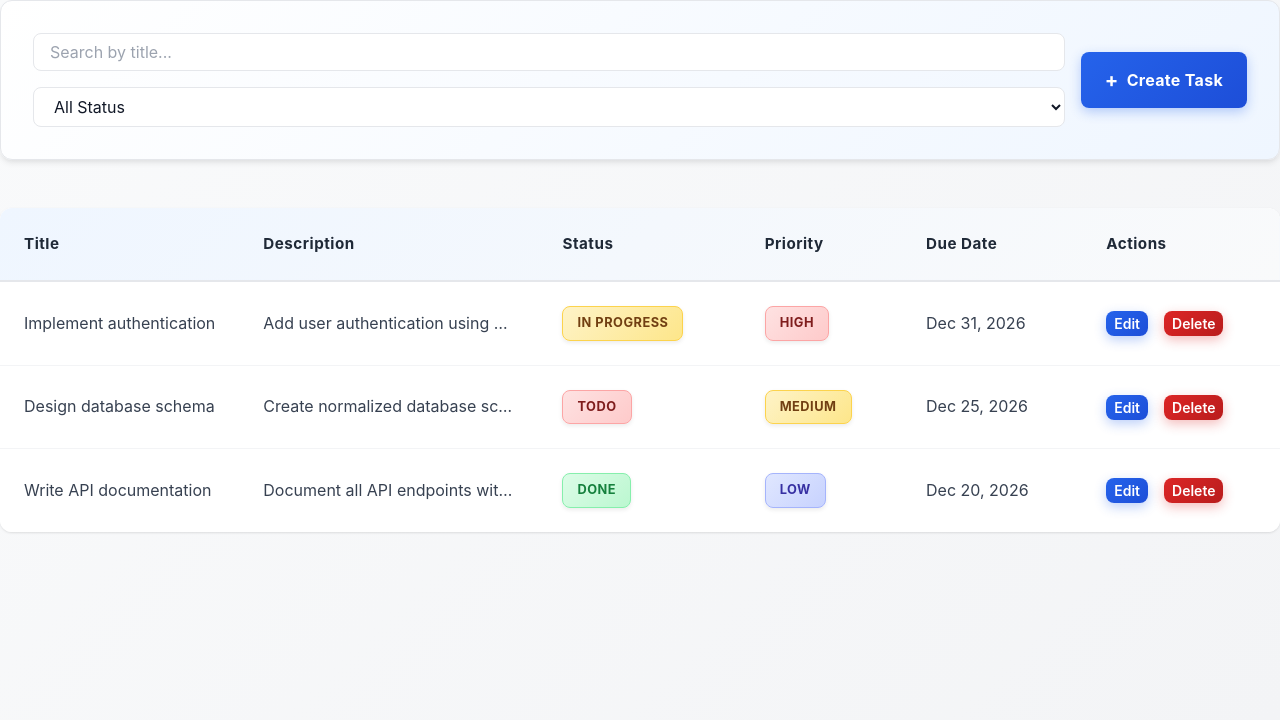
it: TaskList Integration Tests › Edit Task › should open modal in edit mode when edit button is clicked
Expected: the text "Implement authentication" is shown, [0,281,239,365]
Click the button "Edit" in the row of "Implement authentication". click: (1127, 324)
box: [1106,311,1148,336]
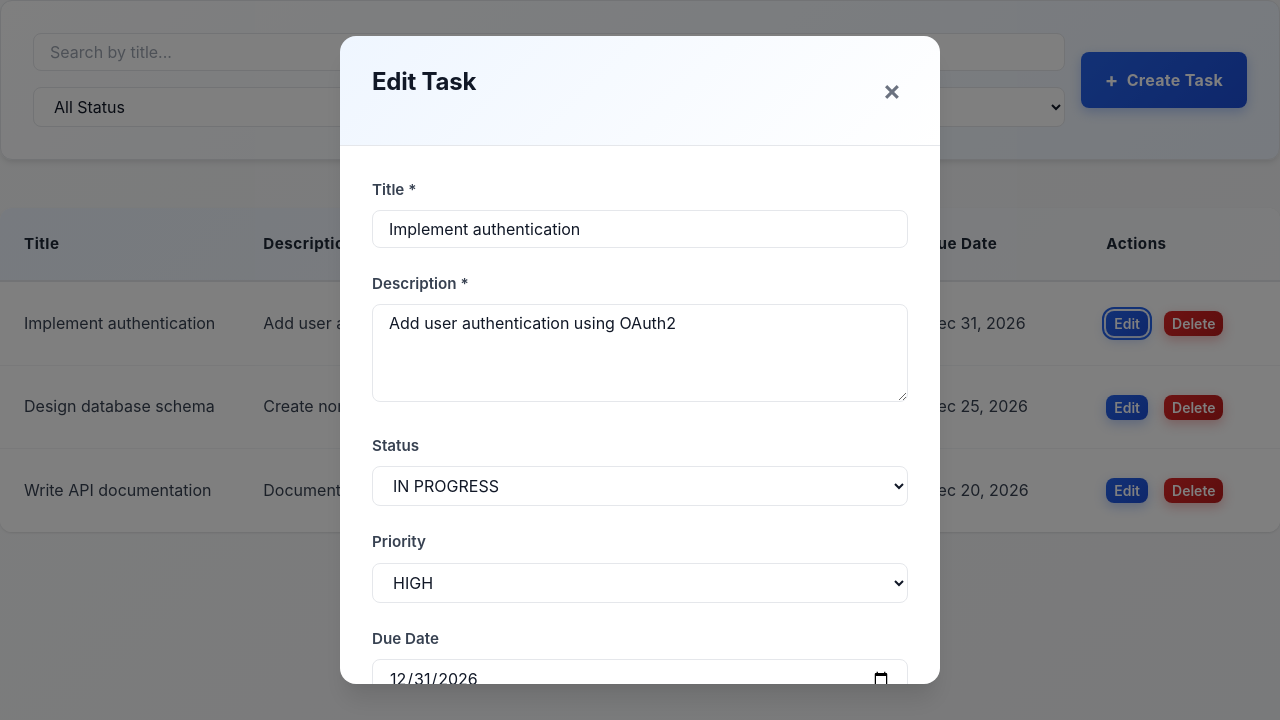
Expected: the heading "Edit Task" is shown, [372,68,476,97]
